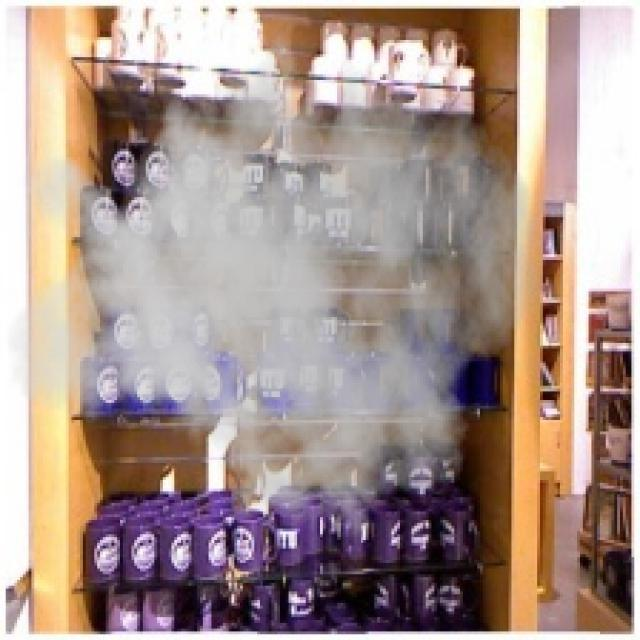Smoke: (3, 9, 540, 552)
